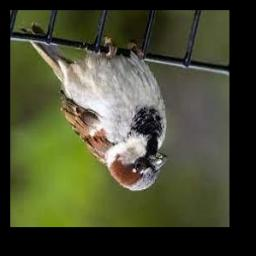Sparrow: (21, 22, 167, 191)
